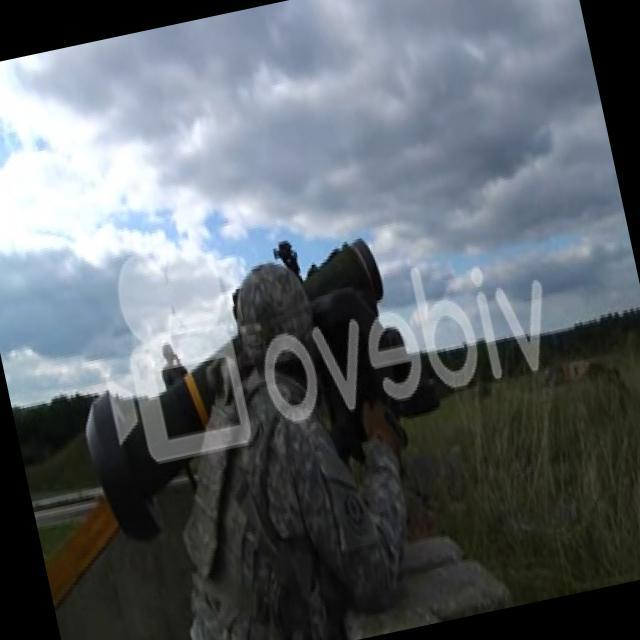rocket: (63, 240, 418, 542)
